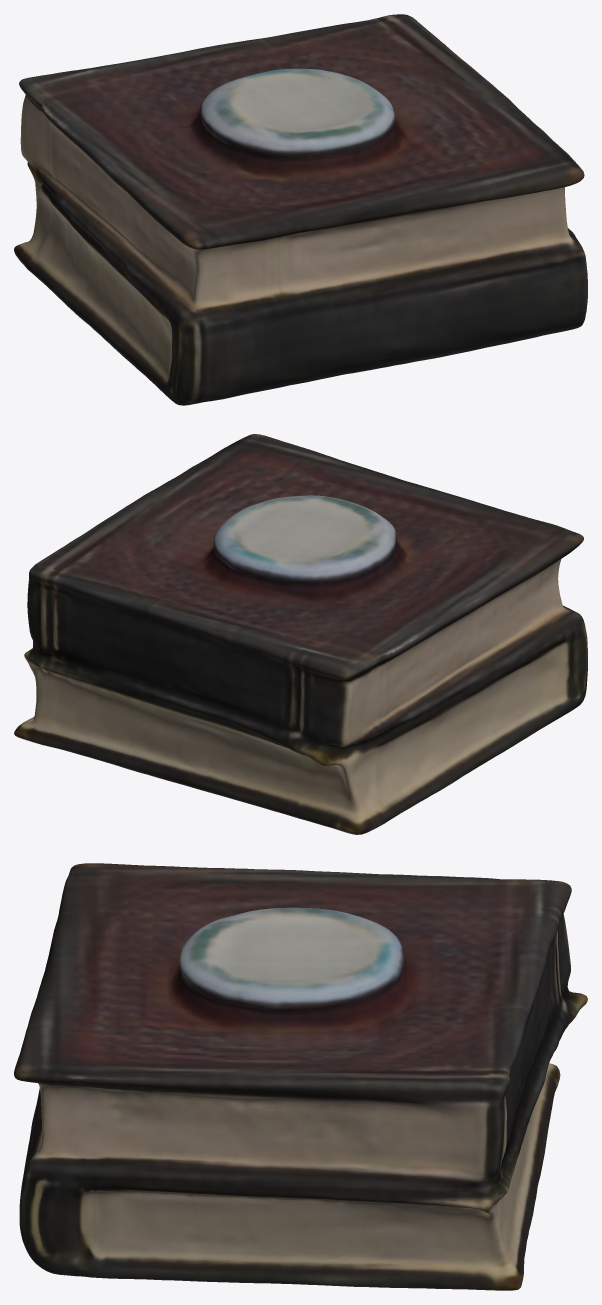
The model's file is d49ddbbdccc9_shlelf_with_books_a.fbx.
3 renders of one model, top to bottom at view 1: azimuth 30°, elevation 25°; view 2: azimuth 150°, elevation 25°; view 3: azimuth 270°, elevation 25°, orthographic. The views are drawn at different scales.
Visible parts, largest first — view 1: high_poly; view 2: high_poly; view 3: high_poly.
Part boxes in pixels (x1=…): high_poly: x1=14, y1=14, x2=587, y2=405; high_poly: x1=14, y1=434, x2=587, y2=834; high_poly: x1=14, y1=863, x2=587, y2=1290.
Bounding box in the file's own units: 98.16 × 44.05 × 100.
